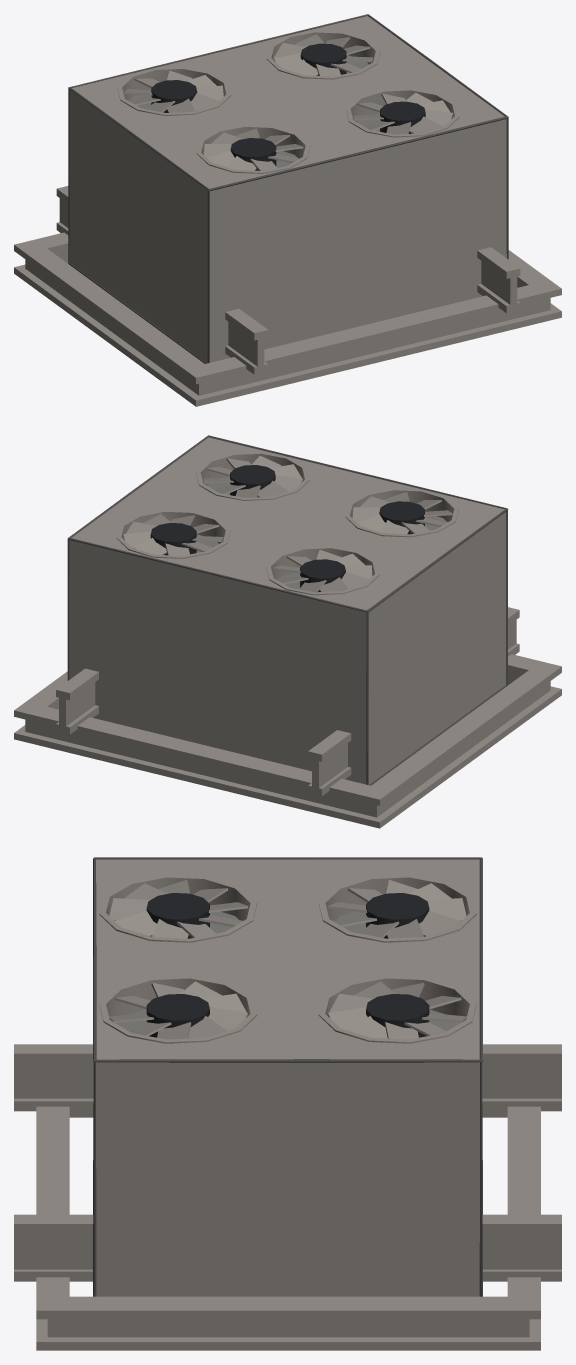
File: AirConditioner_2.fbx
3 views of the same model, one above another, from view 1: azimuth 30°, elevation 25°; view 2: azimuth 150°, elevation 25°; view 3: azimuth 270°, elevation 25° (orthographic). The views are drawn at different scales.
Parts seen in each view (by area): view 1: AirConditioner_2; view 2: AirConditioner_2; view 3: AirConditioner_2.
Boxes of the visible parts, left/top/right/bottom form: AirConditioner_2: left=14, top=14, right=561, bottom=406; AirConditioner_2: left=14, top=435, right=561, bottom=828; AirConditioner_2: left=14, top=857, right=561, bottom=1350.
Size of the model in its own units: 178 by 90.61 by 166.
